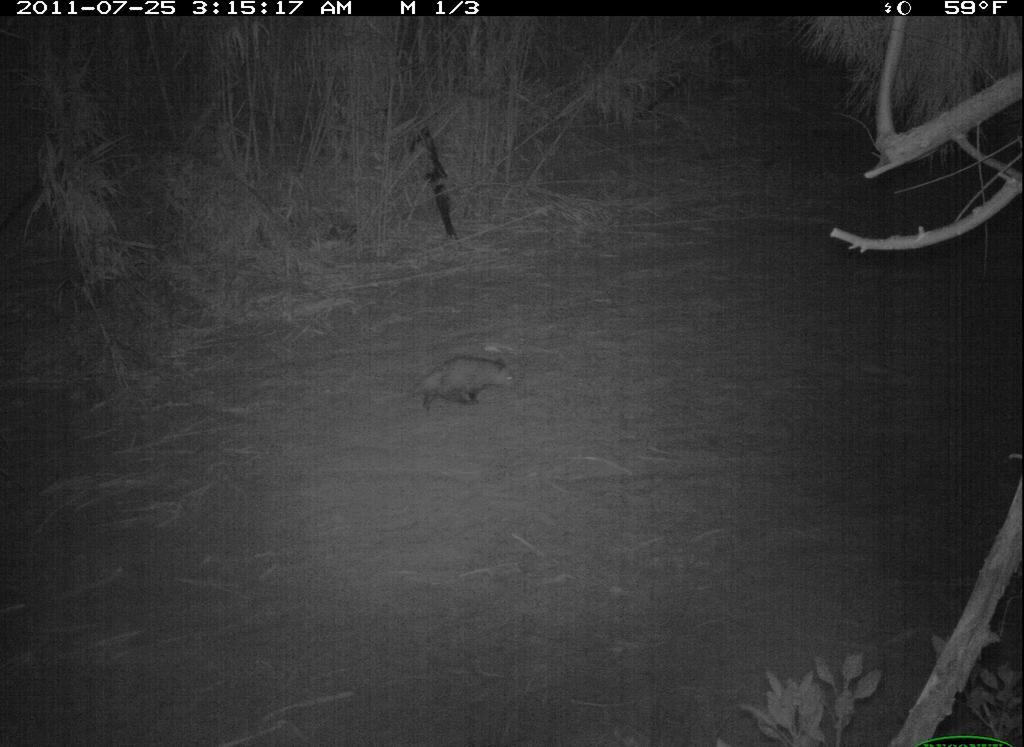opossum: (385, 342, 534, 422)
